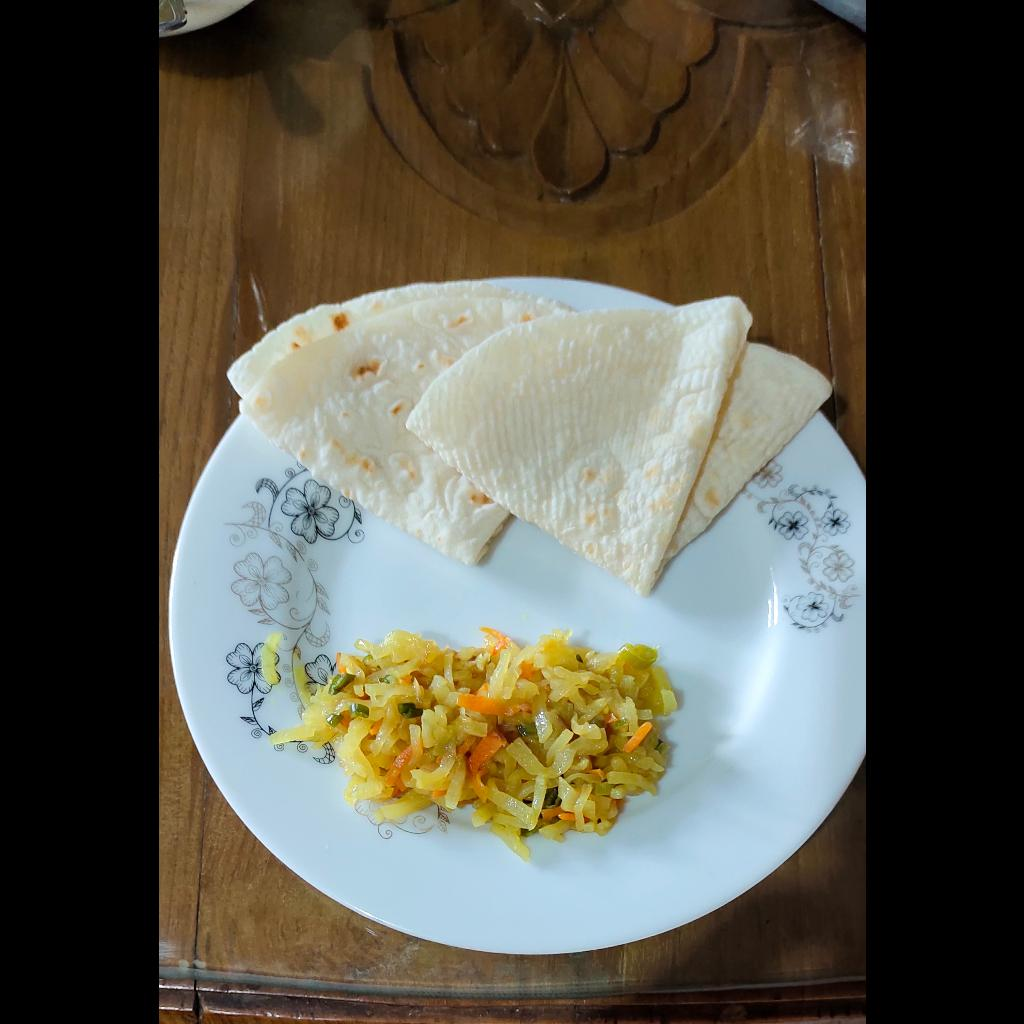ruti: (223, 277, 835, 598)
vaji: (272, 618, 683, 864)
